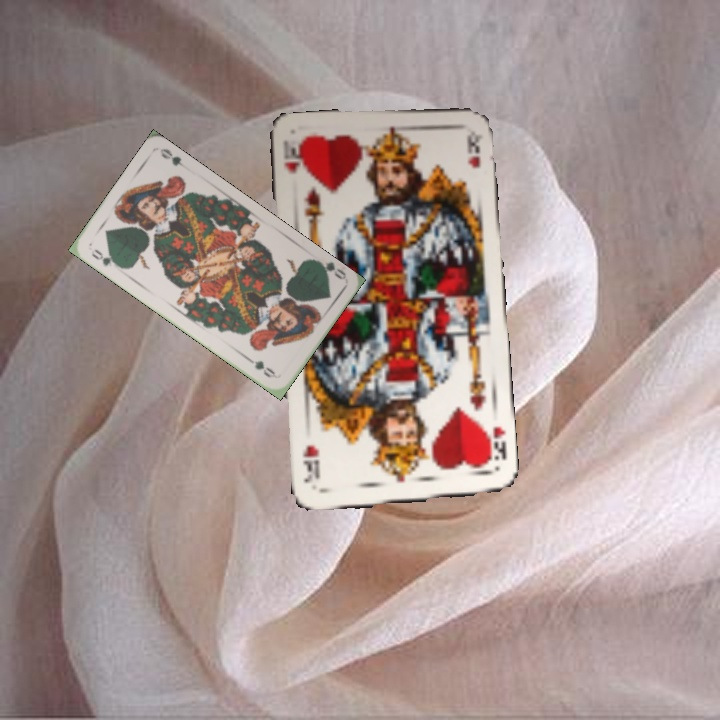GO: (310, 256, 348, 282), (87, 245, 123, 270)
HK: (480, 419, 509, 466), (279, 138, 301, 177)
